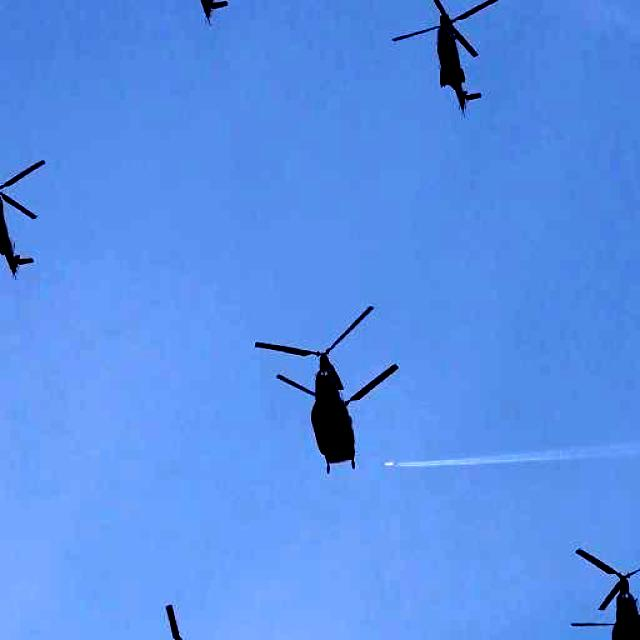drone: (260, 310, 456, 486), (388, 0, 541, 136), (0, 154, 102, 304), (568, 538, 640, 640), (122, 0, 282, 45)
